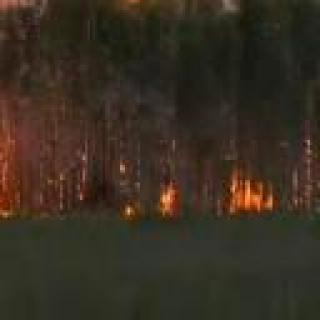fire: (232, 171, 282, 217), (155, 174, 189, 215), (0, 94, 4, 220)
